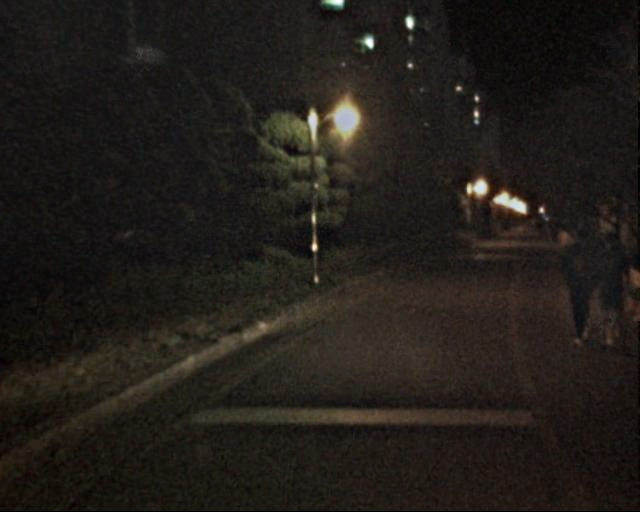person: (550, 229, 599, 348), (583, 233, 628, 343)
